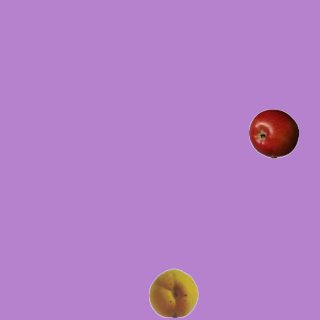Apple Braeburn: (248, 108, 298, 158)
Peach 2: (148, 267, 198, 317)
